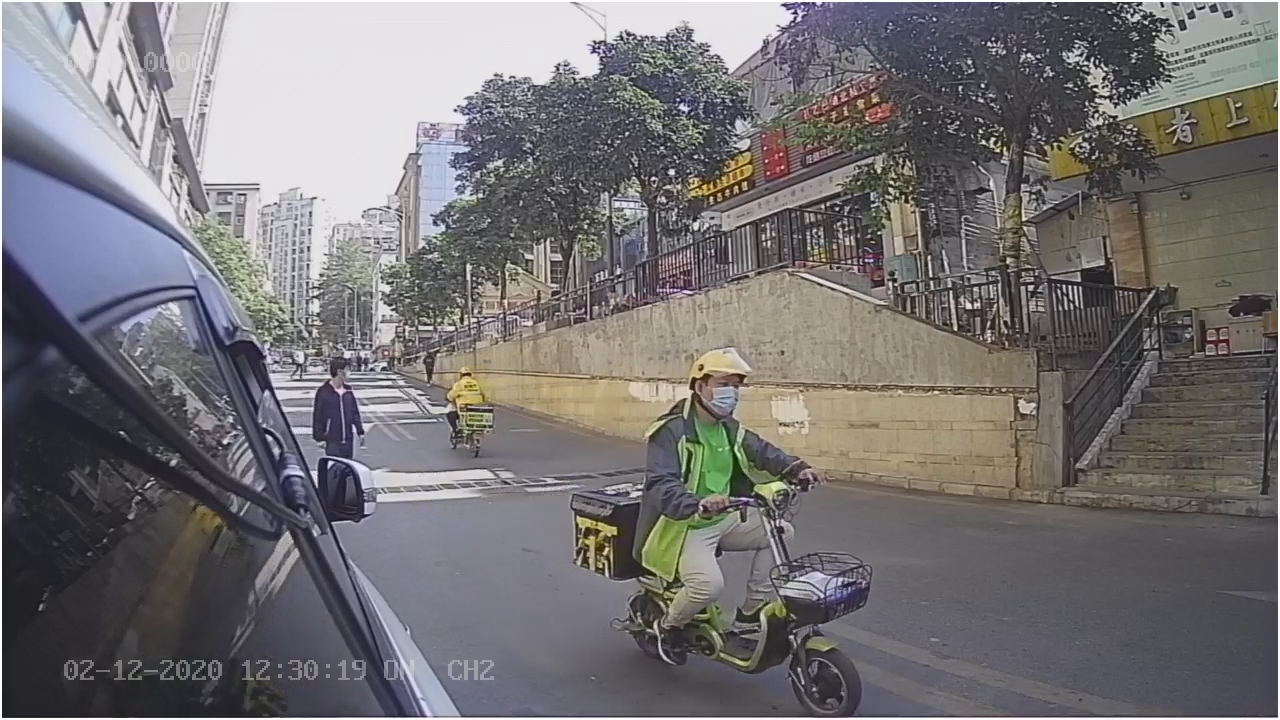person: (642, 334, 784, 512)
